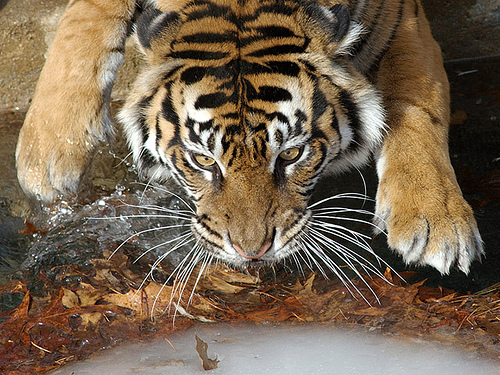Tigre: (114, 3, 407, 284)
